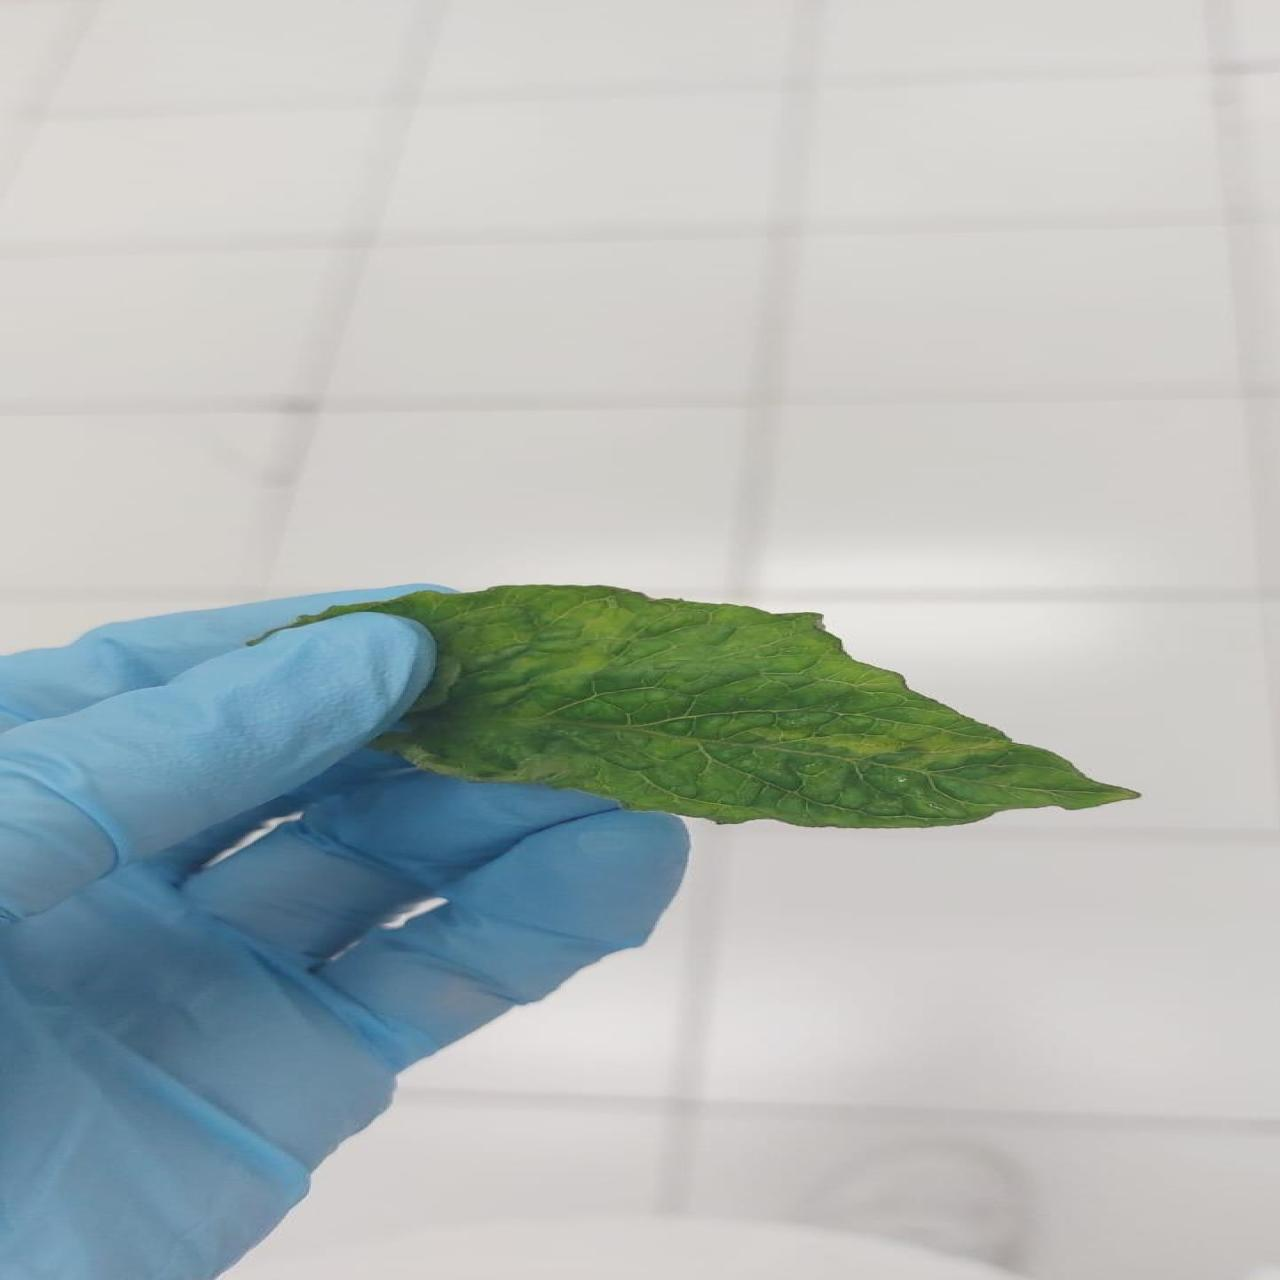T_L_R: (254, 586, 1139, 829)
